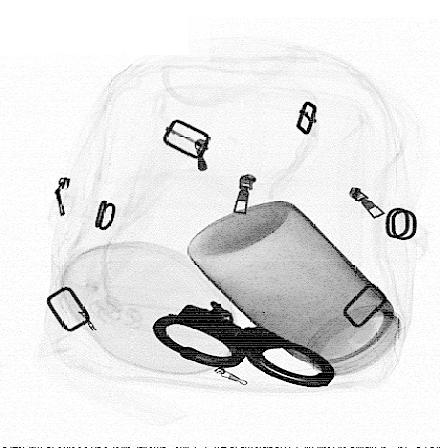HandCuffs: (152, 302, 335, 390)
